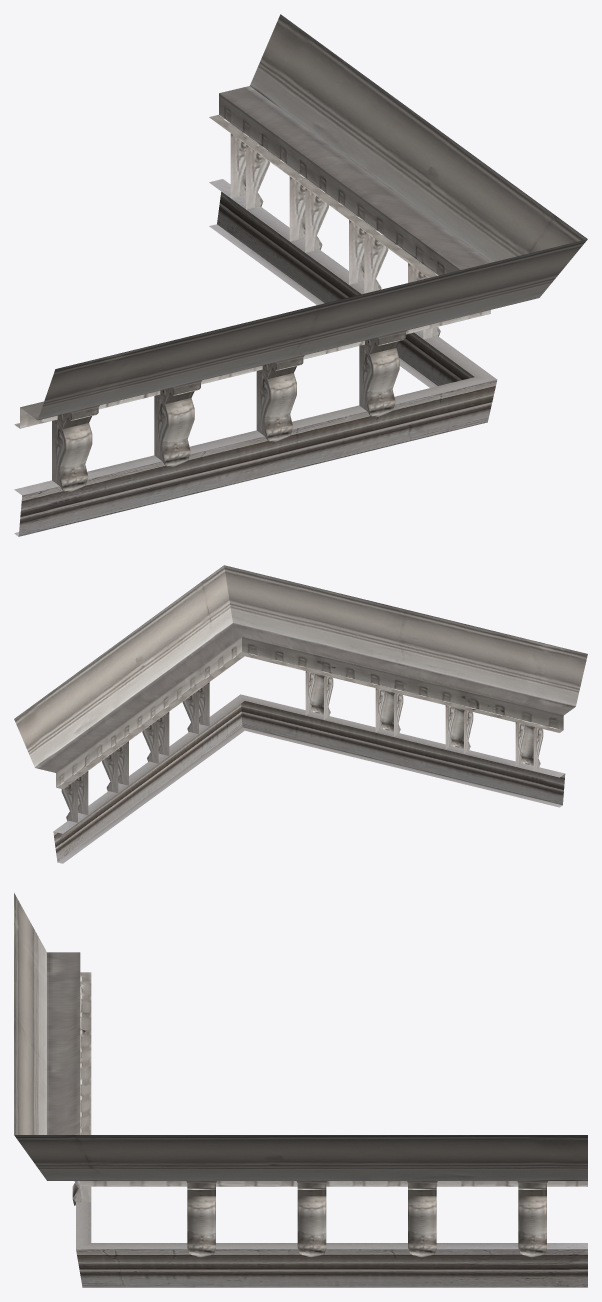
File: WallRooflineCorner1A.fbx
The picture shows the model from 3 angles, top to bottom: view 1: azimuth 30°, elevation 25°; view 2: azimuth 150°, elevation 25°; view 3: azimuth 270°, elevation 25°; orthographic projection. The views are drawn at different scales.
Parts seen in each view (by area): view 1: WallRooflineCorner1A; view 2: WallRooflineCorner1A; view 3: WallRooflineCorner1A.
Part boxes in pixels (x1,y1,x2,y2): WallRooflineCorner1A: (14,14,587,536); WallRooflineCorner1A: (14,565,587,863); WallRooflineCorner1A: (14,893,587,1287).
Bounding box in the file's own units: 260 × 90.8 × 260.
